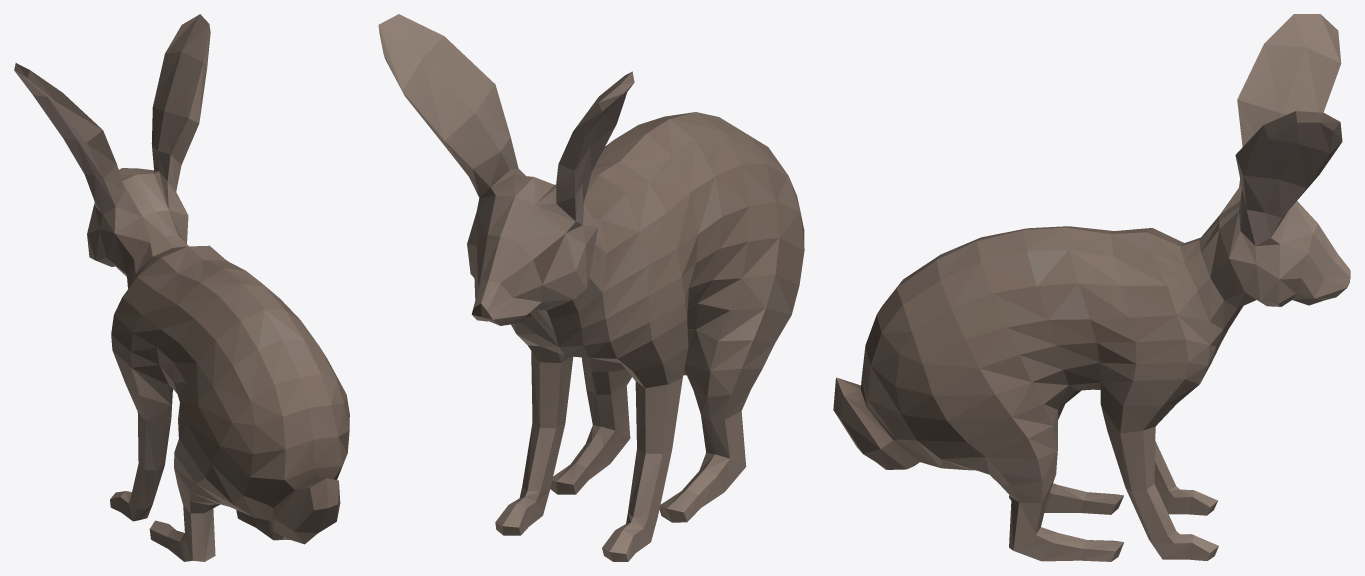
Rendered from firnhase.glb.
3 renders of one model, left to right at view 1: azimuth 30°, elevation 25°; view 2: azimuth 150°, elevation 25°; view 3: azimuth 270°, elevation 25°, orthographic. The views are drawn at different scales.
Visible parts, largest first — view 1: JackRabbit_mesh; view 2: JackRabbit_mesh; view 3: JackRabbit_mesh.
Boxes of the visible parts, x1,y1,x2,y2 form: JackRabbit_mesh: (14, 14, 349, 561); JackRabbit_mesh: (378, 14, 804, 561); JackRabbit_mesh: (833, 14, 1350, 561).
Bounding box in the file's own units: 0.3706 × 0.787 × 0.7853.
